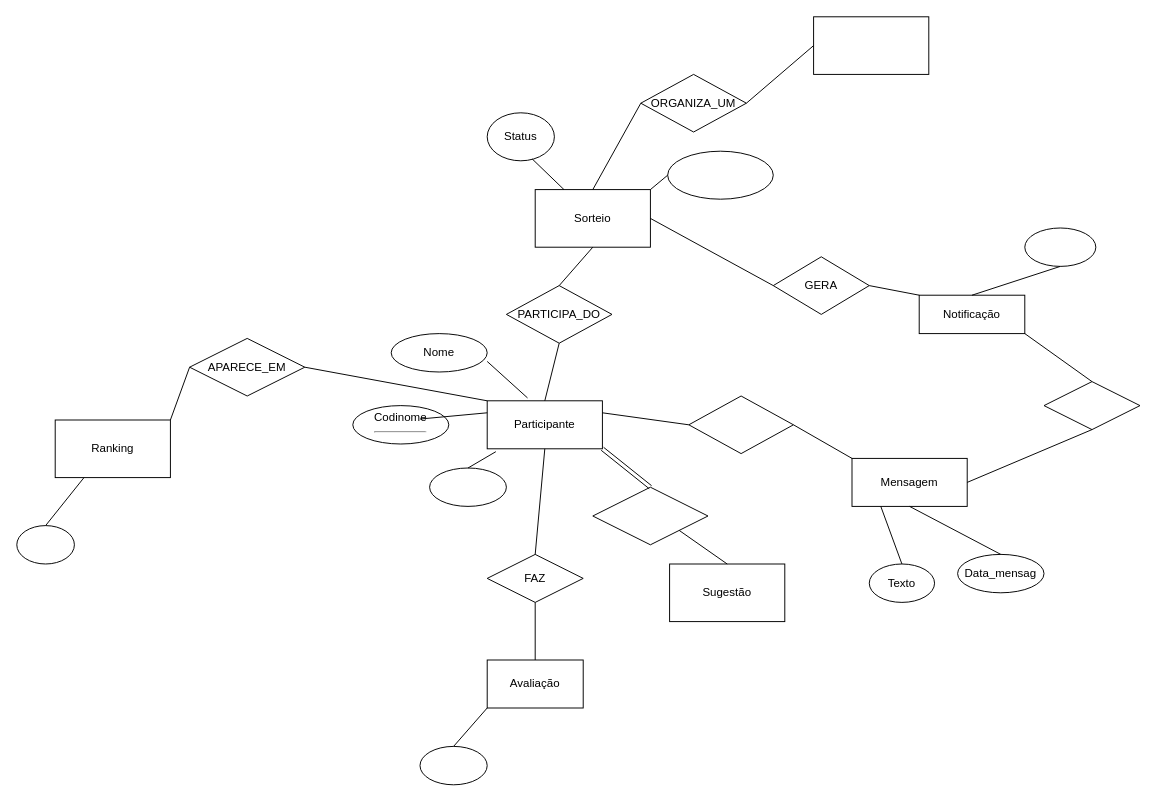
This 1157x802 diagram has some shape labels left out. Here are the shapes that lost their labels. From the top down, the centre of each, then its label:
At (871,45): "Patrocinador".
At (720,174): "Num_participante".
At (1060,246): "Data_notif".
At (740,424): "ENVIA".
At (1091,405): "MANDA_UMA".
At (467,486): "Ramal".
At (650,515): "FORNECE_UMA".
At (45,544): "Posição".
At (453,765): "Comentário".
